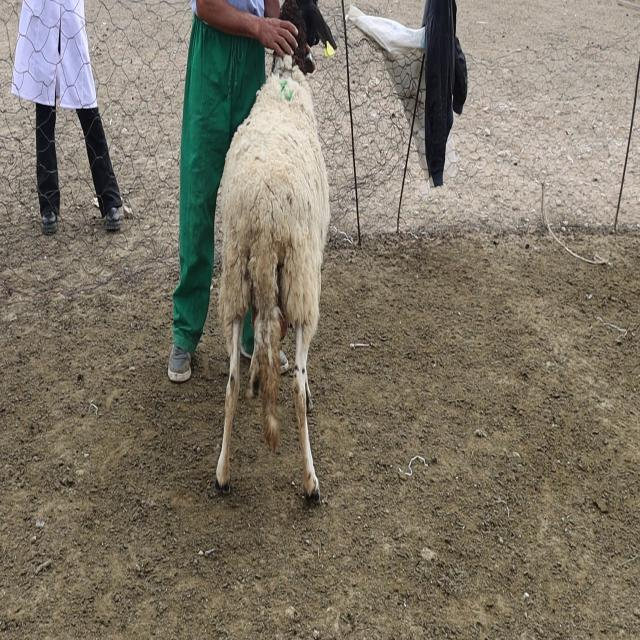Score_5: (215, 0, 336, 501)
